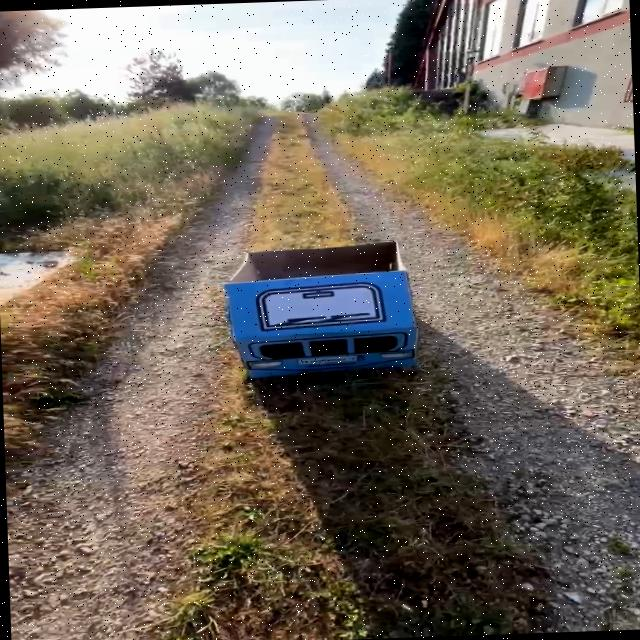blue_car: (178, 219, 460, 421)
